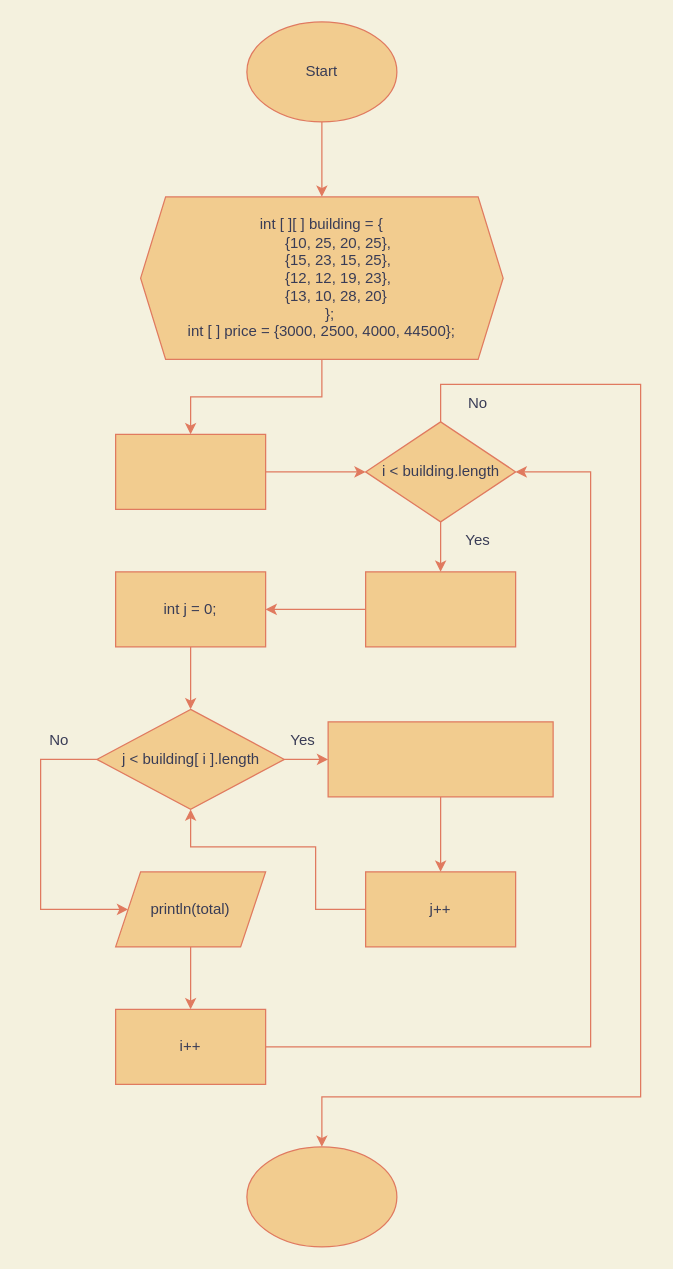
Image size: 673x1269. Some labels were removed from this diagram. The box of each missing label's shape, as (x1, y1, x2, y2) in pixels:
End: (246, 1146, 397, 1247)
int i = 0;: (114, 433, 266, 509)
int total = 0;: (364, 571, 516, 647)
total += building[ i ][ j ] * price[ i ];: (327, 721, 553, 797)
